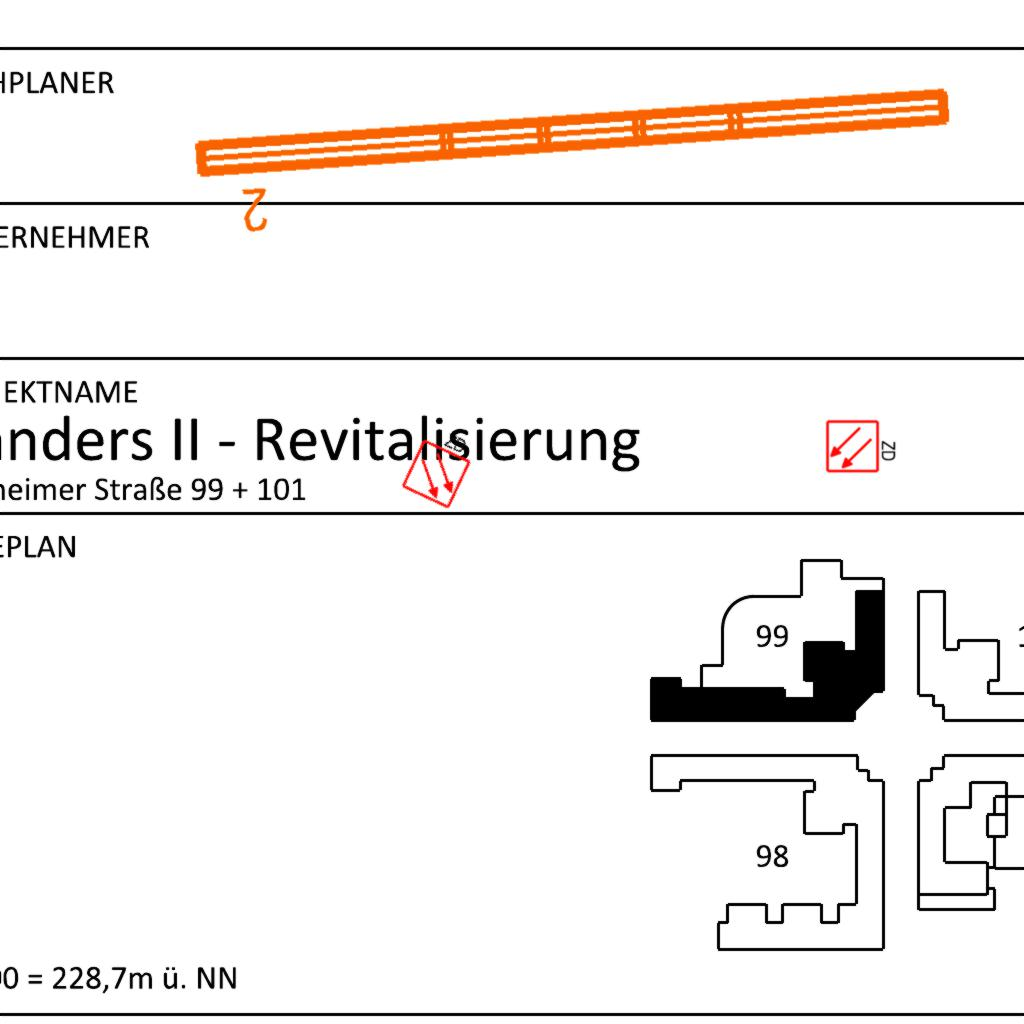Ambulanz_Pendelleuchte_LED: (185, 75, 965, 241)
ZD_Melder_in_Zwischendecke_mit_Revisionsoeffnung_mind_40_x_40_cm: (398, 419, 481, 511), (825, 417, 899, 474)
